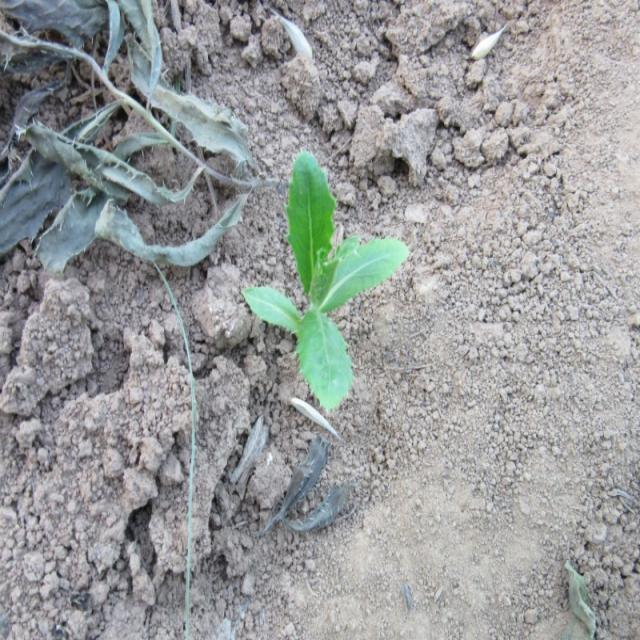cs: (238, 147, 414, 422)
